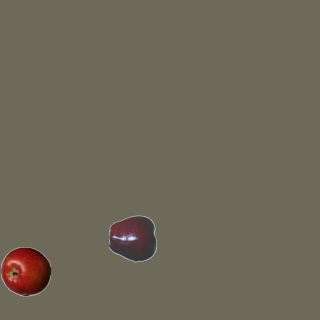Apple Braeburn: (0, 246, 50, 296)
Apple Red Delicious: (108, 213, 158, 263)
